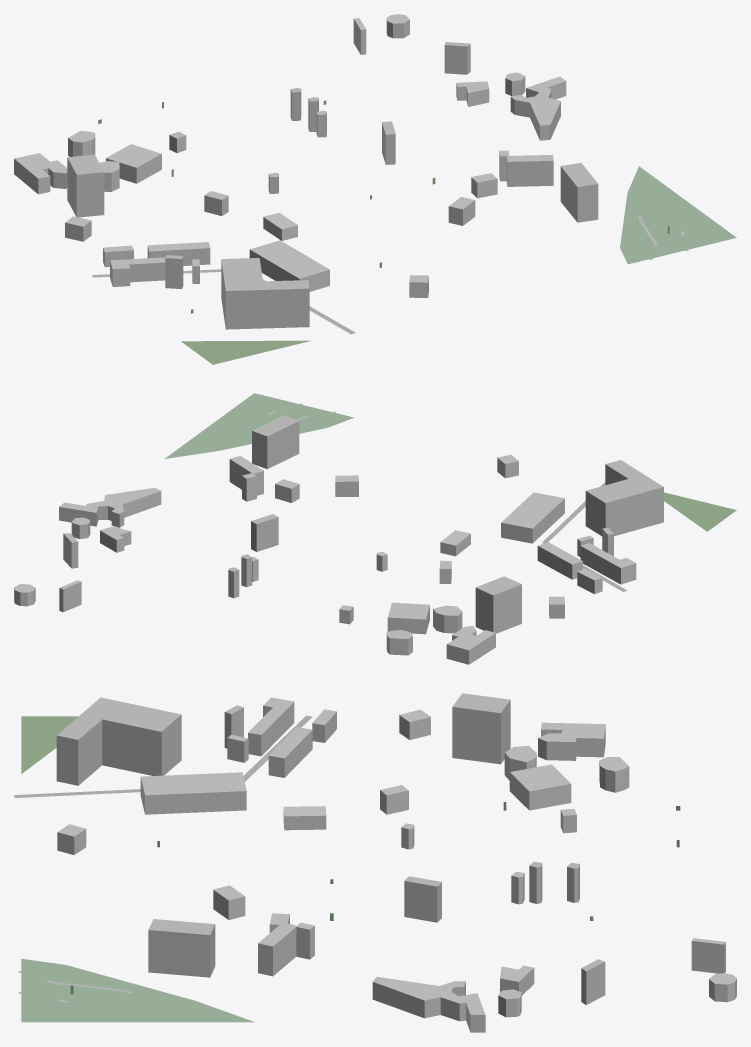
The picture shows the model from 3 angles, top to bottom: view 1: azimuth 30°, elevation 25°; view 2: azimuth 150°, elevation 25°; view 3: azimuth 270°, elevation 25°; orthographic projection. The views are drawn at different scales.
Size of the model in its own units: 518 by 40.27 by 501.
